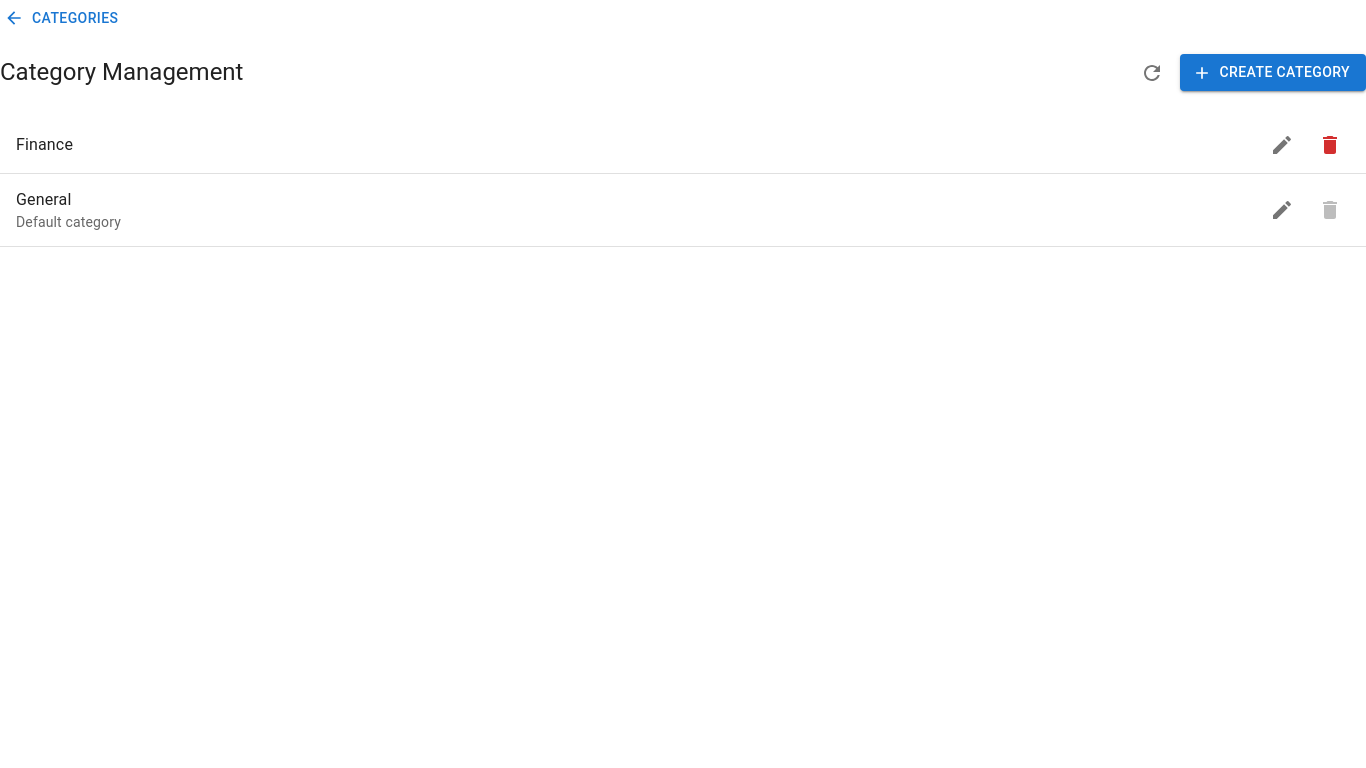
Test: category management › keeps a nonempty category and displays the server deletion guard
The image size is (1366, 768).
What coordinates should you click on to do the following:
click the button named "Delete Finance"
I would click on:
 (1330, 144)
Its box is [1310,124,1350,164].
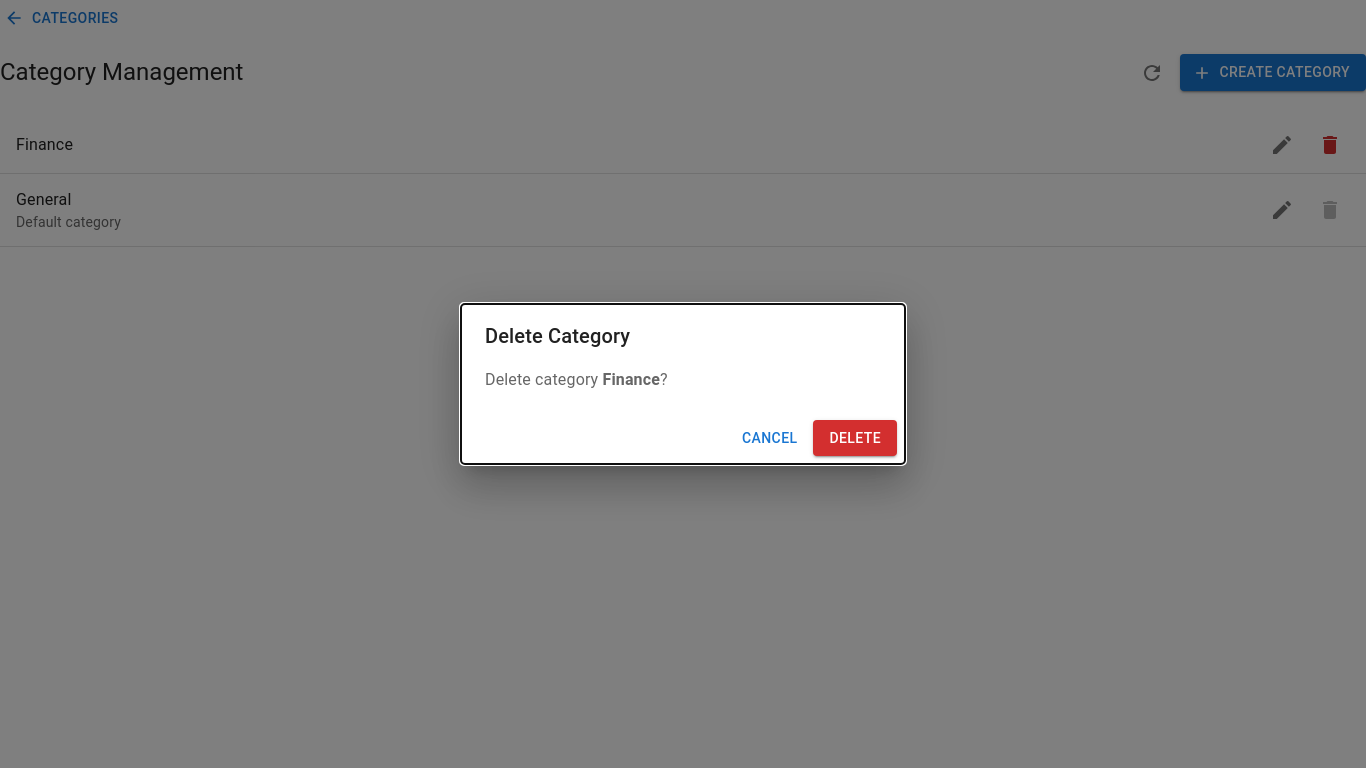
What coordinates should you click on to do the following:
click the button "Delete"
I would click on:
 (855, 438)
Its box is [814,420,897,456].
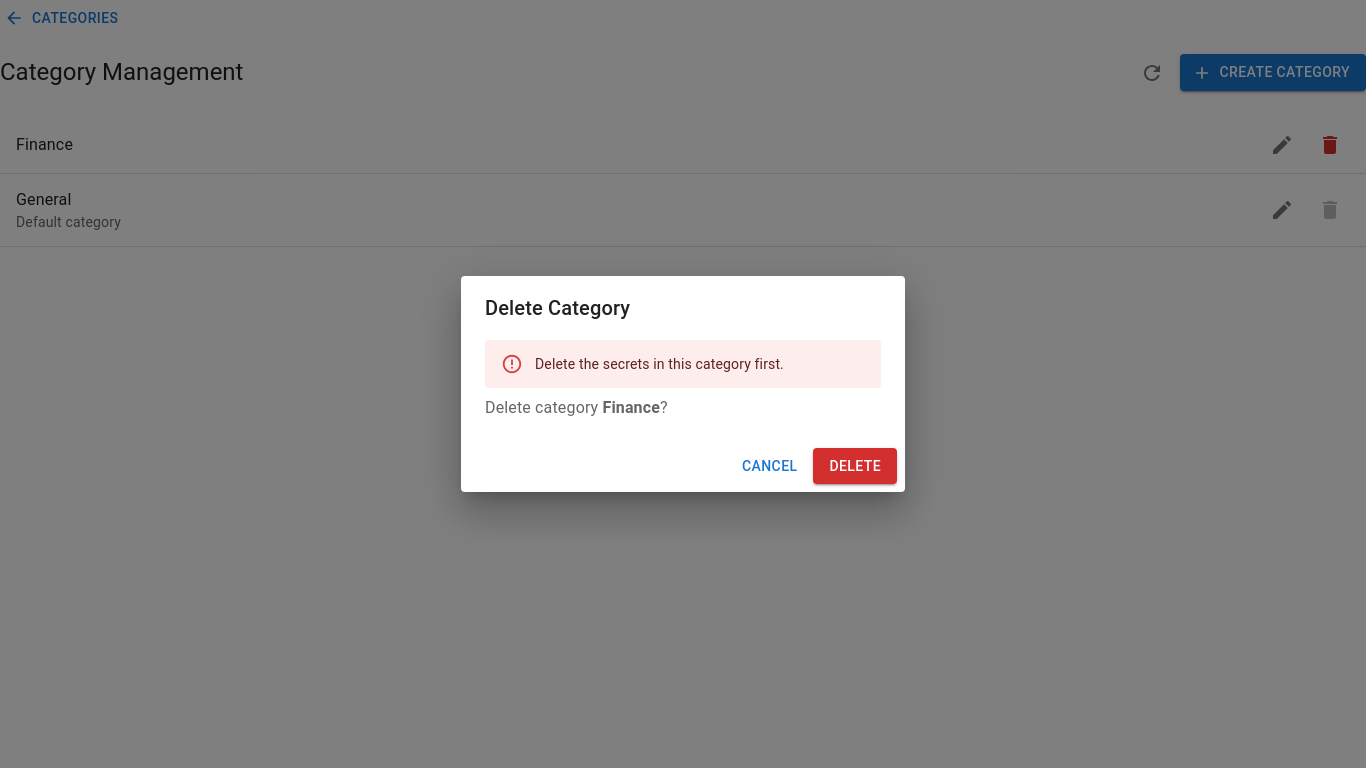
Expected: the message reads "Delete the secrets in this category first.", [535,356,784,372]
